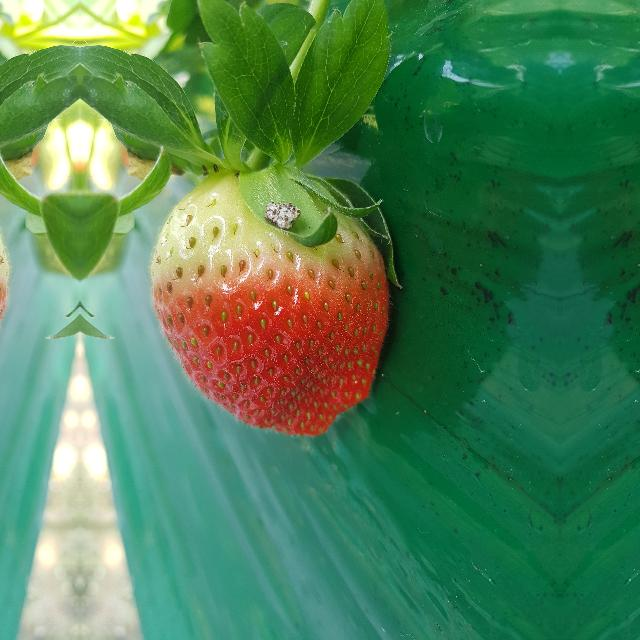Health_75: (150, 171, 390, 437)
